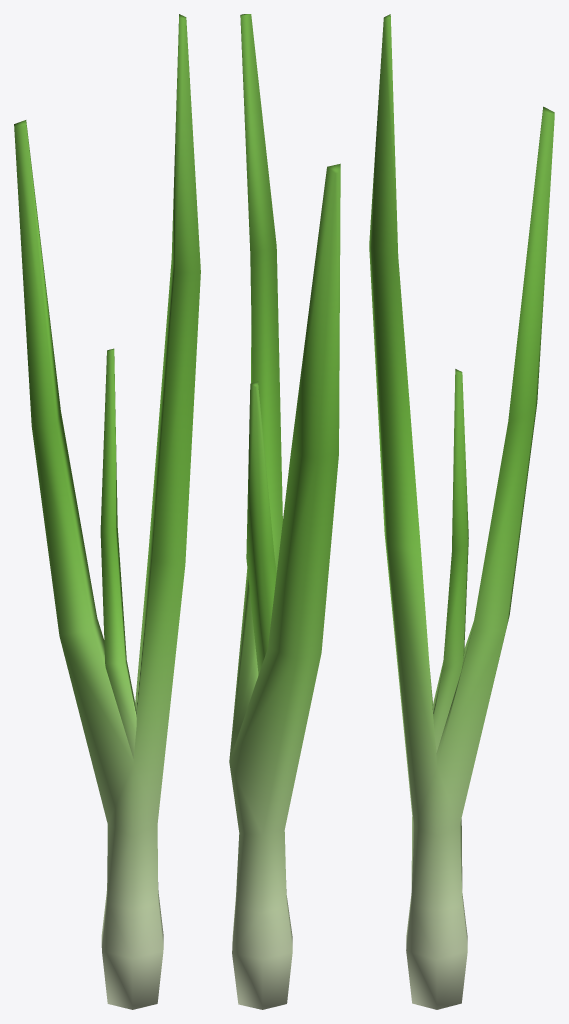
File: plant_onion_S1.gltf
3 views of the same model, side by side, from view 1: azimuth 90°, elevation 25°; view 2: azimuth 210°, elevation 25°; view 3: azimuth 270°, elevation 25° (orthographic). The views are drawn at different scales.
Visible parts, largest first — view 1: plant_onion_S1; view 2: plant_onion_S1; view 3: plant_onion_S1.
Part boxes in pixels (x1,y1,x2,y2): plant_onion_S1: (14, 14, 200, 1009); plant_onion_S1: (229, 14, 340, 1009); plant_onion_S1: (369, 14, 554, 1009).
Bounding box in the file's own units: 0.0259 × 0.3536 × 0.0601.
Materials: 1 (1 with a texture image).
